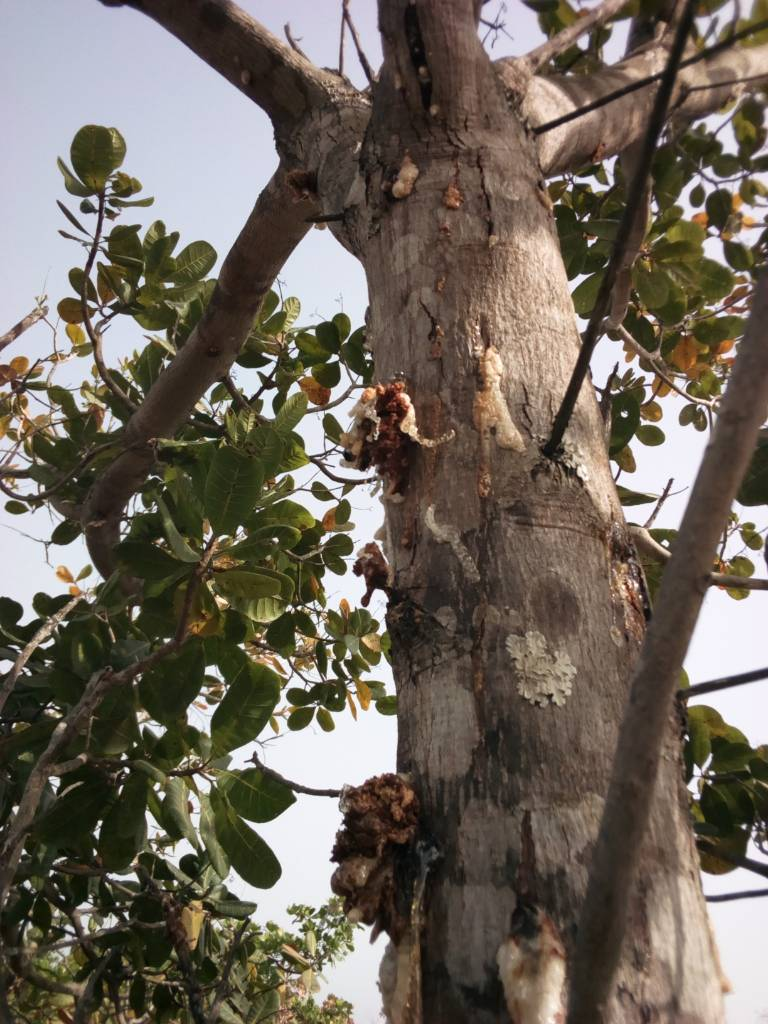Apate terebrans: (304, 278, 585, 591), (250, 744, 561, 986)
